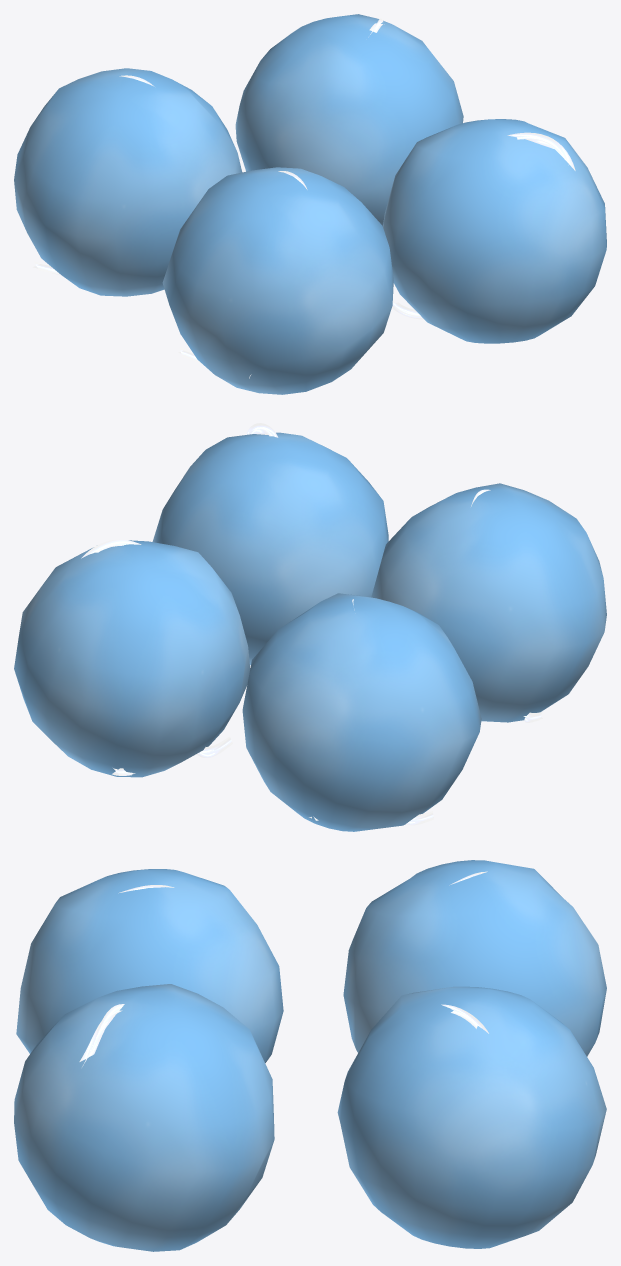
File: a_SWAantigue02.glb
3 views of the same model, one above another, from view 1: azimuth 30°, elevation 25°; view 2: azimuth 150°, elevation 25°; view 3: azimuth 270°, elevation 25° (orthographic). The views are drawn at different scales.
Parts seen in each view (by area): view 1: a_SWAantigue02; view 2: a_SWAantigue02; view 3: a_SWAantigue02.
Part boxes in pixels (<box>): a_SWAantigue02: <box>14,14,606,394</box>; a_SWAantigue02: <box>14,423,606,831</box>; a_SWAantigue02: <box>14,860,606,1251</box>.
Bounding box in the file's own units: 4.3 × 2 × 4.47.
4 materials, 4 textured.
